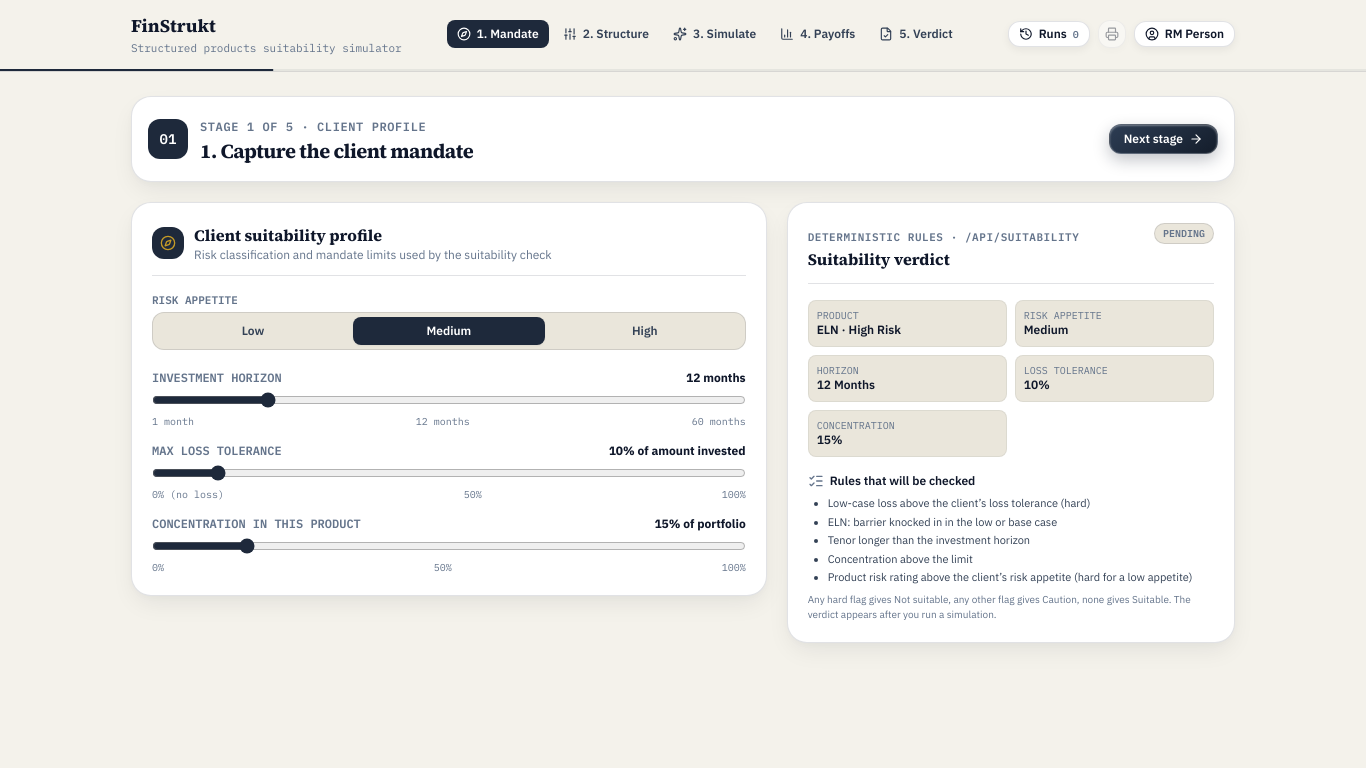
Test: settings: dark mode and cursor › keeps the setting on this device and says so when saving to the account fails
This screenshot has width=1366, height=768.
Click the button with aria-label "Account menu for RM Person": x=1184, y=34 [1134,21,1235,47]
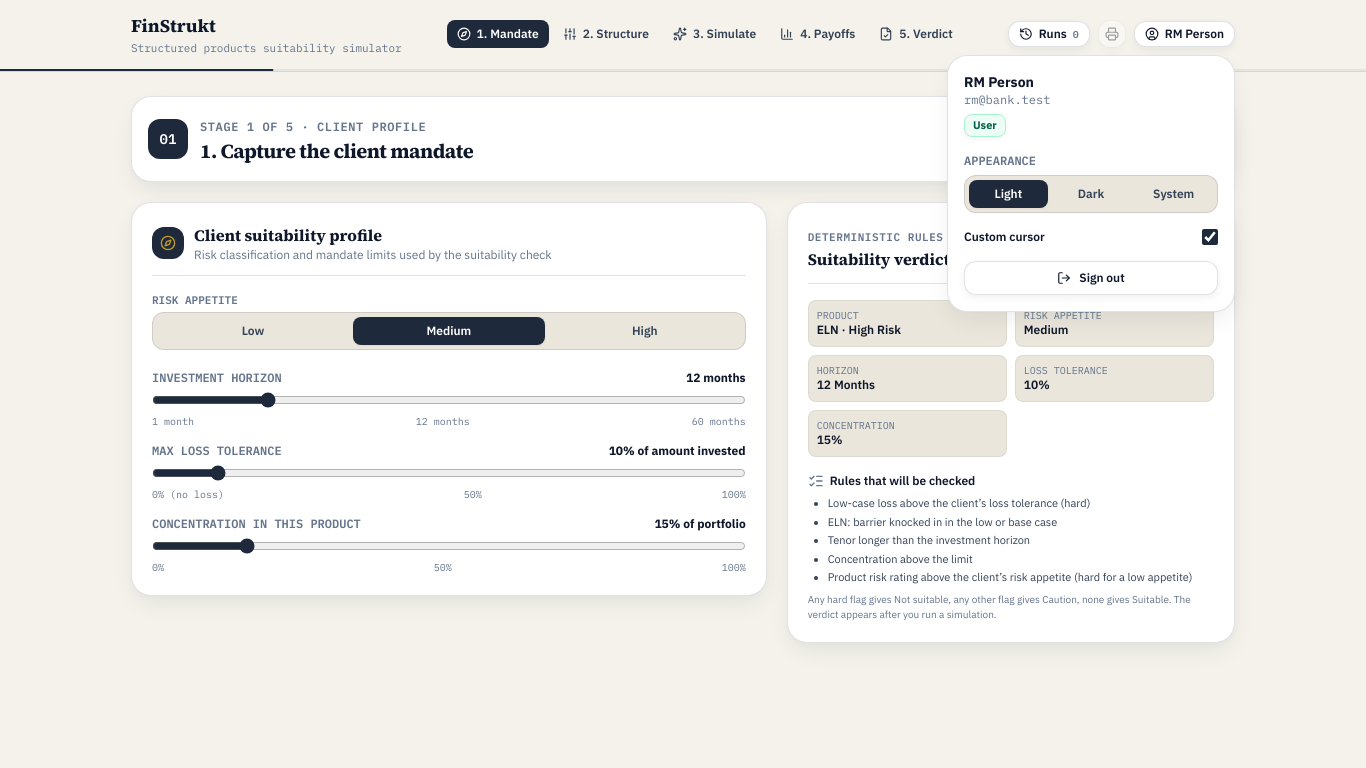
Click the radio button labelled "Dark": x=1091, y=194 [1052,180,1130,208]
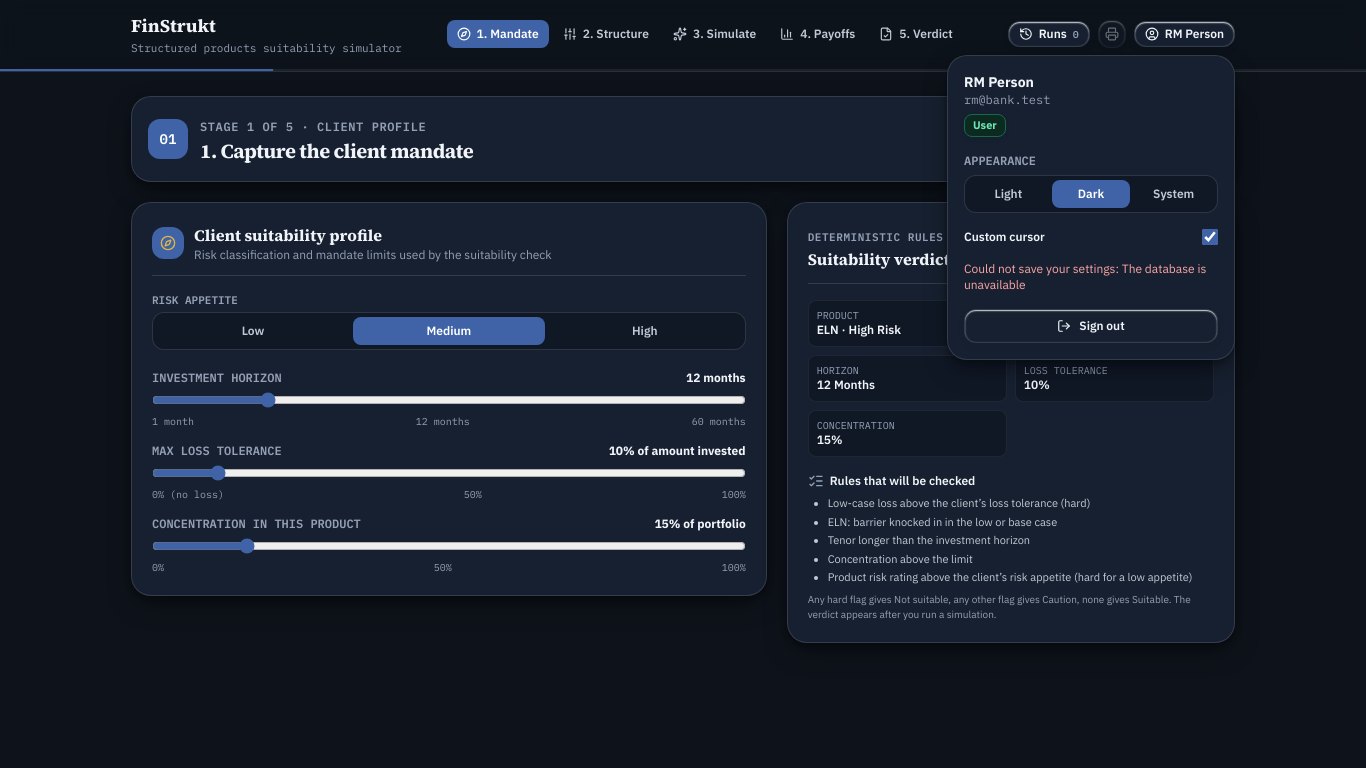
Expected: the text "Could not save your settings: The database is unavailable" is shown, [964,261,1218,293]
